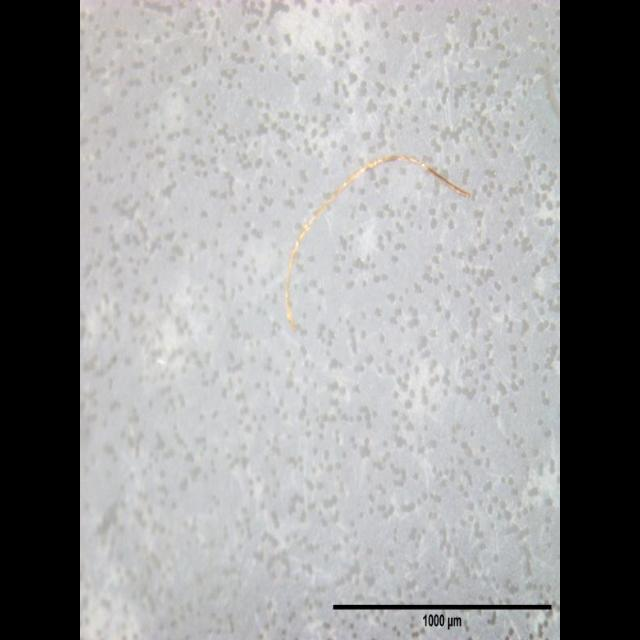Fibre: (284, 152, 472, 332)
